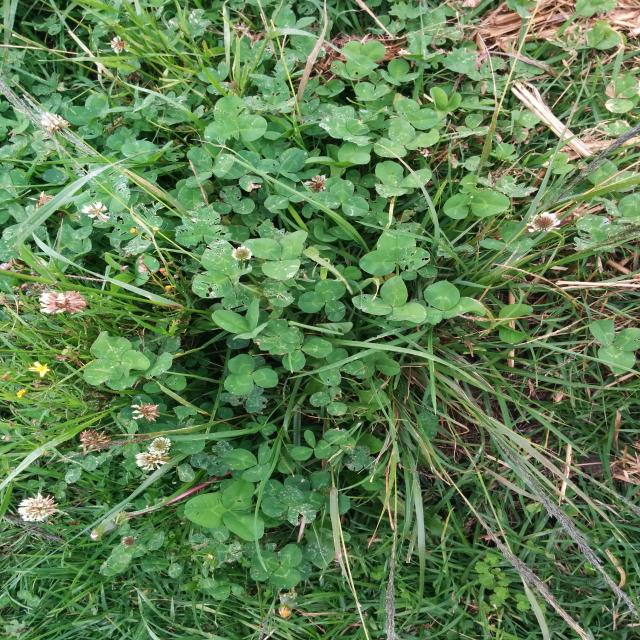Four Leaf Clover: (252, 318, 300, 355)
